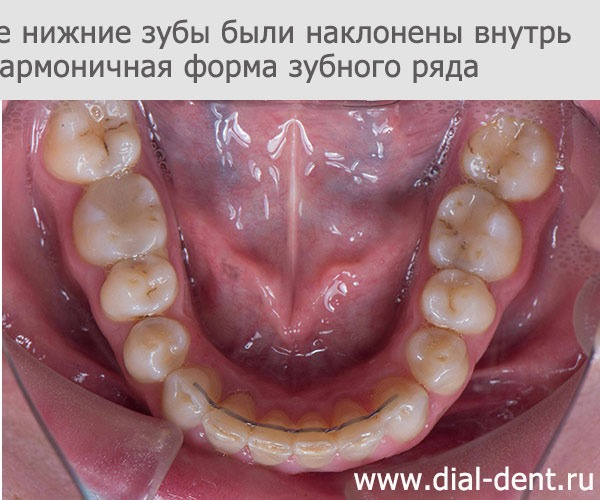LL1BC_healthy: (404, 323, 472, 395)
LL1M_decay: (427, 187, 522, 279)
LL2BC_healthy: (423, 269, 496, 333)
LL2M_decay: (459, 116, 555, 199)
LLCI_decay: (295, 408, 335, 466)
LLC_decay: (372, 379, 429, 440)
LLLI_decay: (331, 399, 379, 457)
LR1BC_healthy: (125, 319, 192, 378)
LR1M_healthy: (73, 174, 168, 257)
LR2BC_decay: (99, 258, 181, 321)
LR2M_decay: (43, 101, 144, 177)
LRCI_decay: (252, 408, 293, 463)
LRC_decay: (164, 366, 210, 428)
LRLI_decay: (211, 393, 251, 456)
